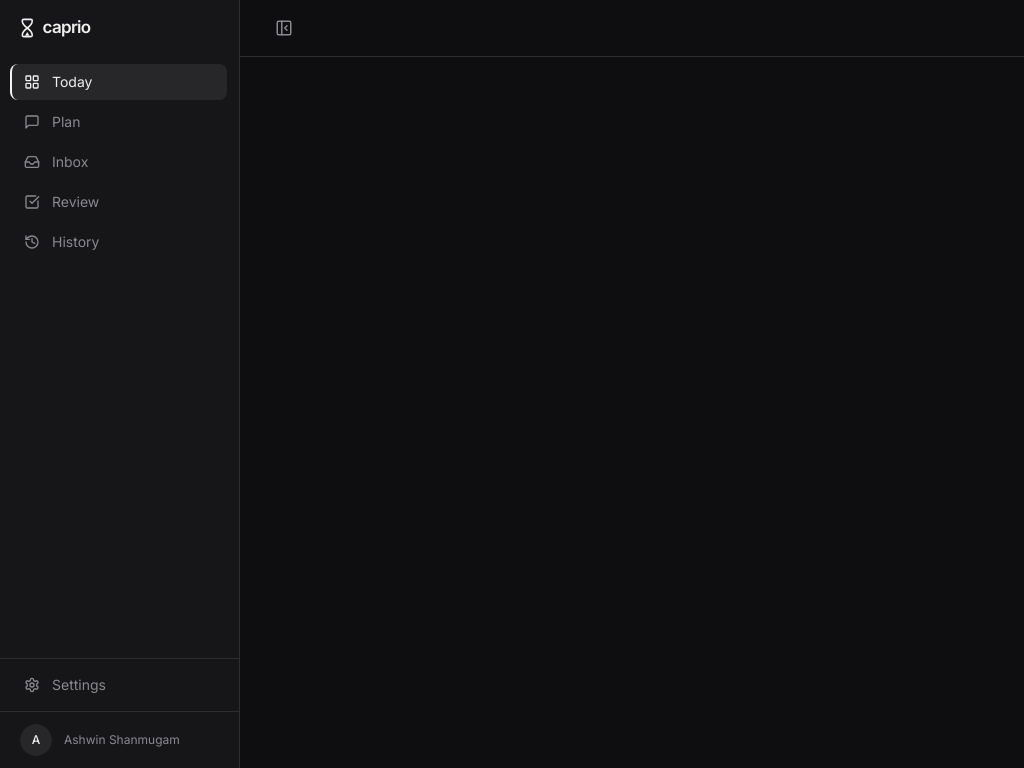
Test: AppSidebar › moves the page content with the sidebar
Click the button named "Collapse sidebar" at (284, 28), box [264,8,304,48]
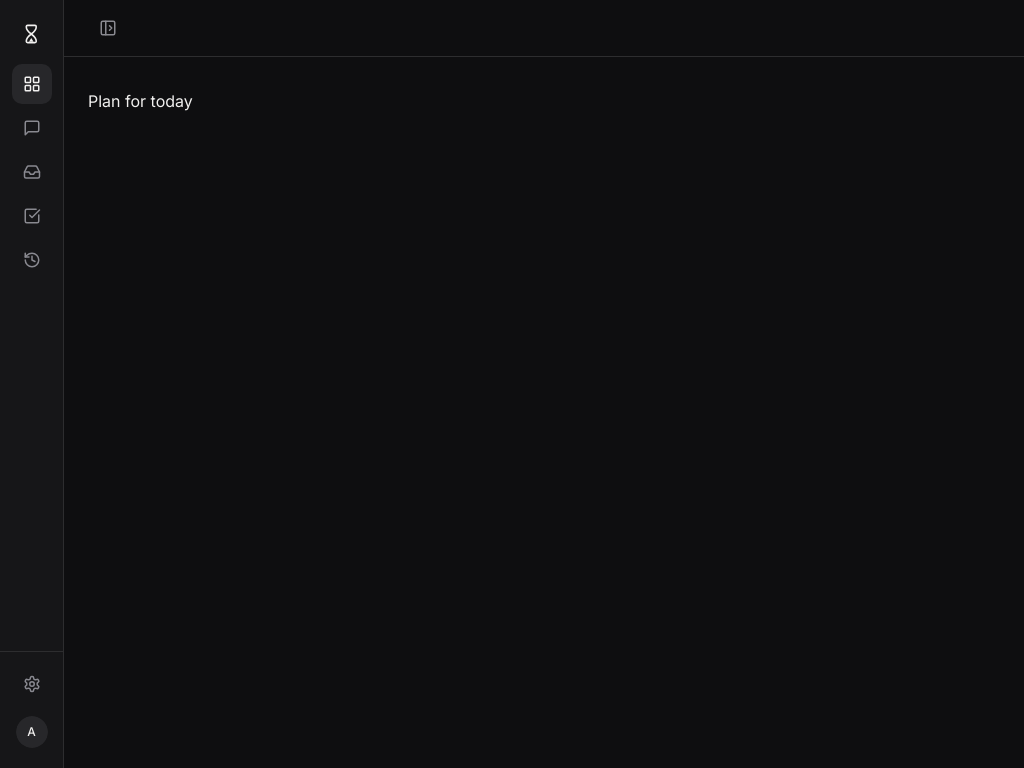
expect the text "Plan for today" is shown: met, box [88,91,193,111]
